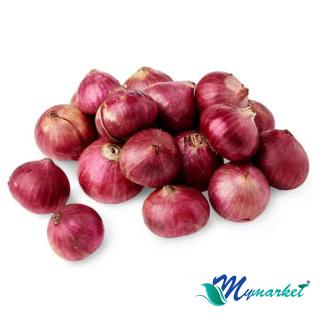Bawang Merah: (9, 67, 311, 262)
